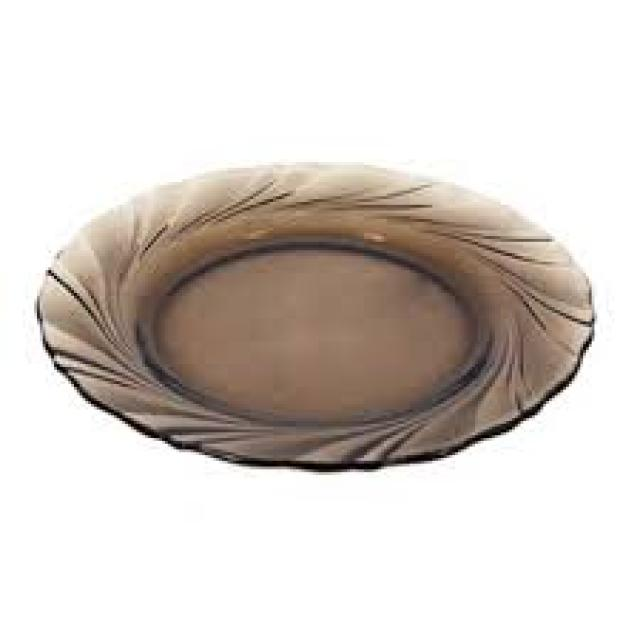glass: (31, 162, 592, 469)
